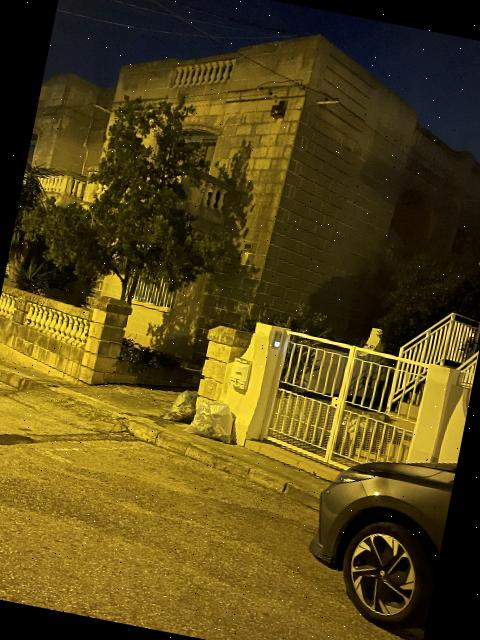Recyclable -Grey-: (187, 398, 235, 443), (162, 390, 196, 423)
